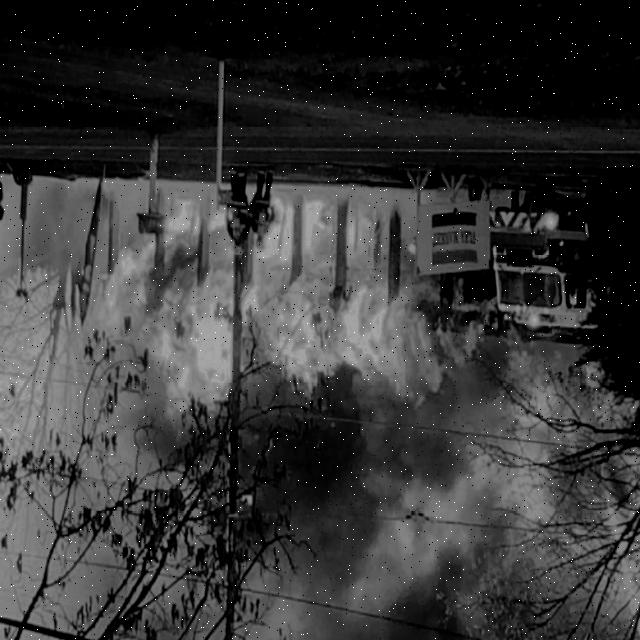api: (107, 187, 491, 441)
asap: (181, 313, 517, 640)
